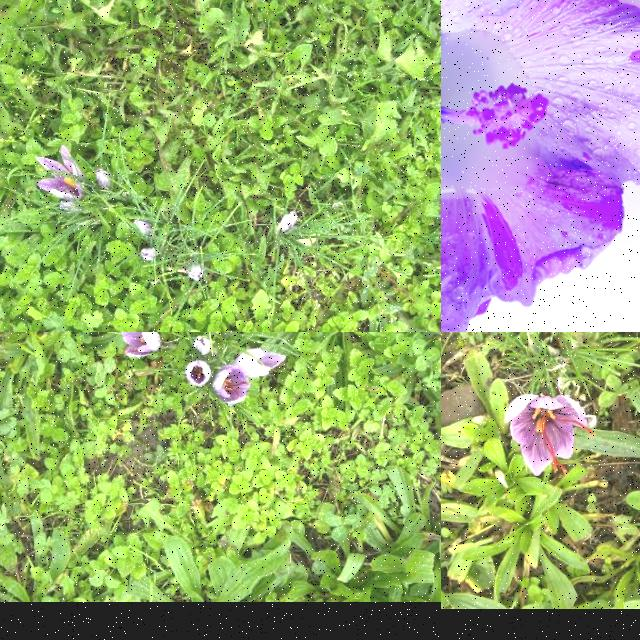flower: (505, 395, 595, 477), (37, 146, 84, 200), (214, 364, 252, 406), (236, 348, 288, 378), (121, 332, 162, 357), (184, 360, 212, 388), (278, 211, 298, 233), (194, 336, 212, 354), (96, 168, 112, 188), (135, 219, 151, 237), (190, 264, 204, 282), (142, 248, 158, 262)
